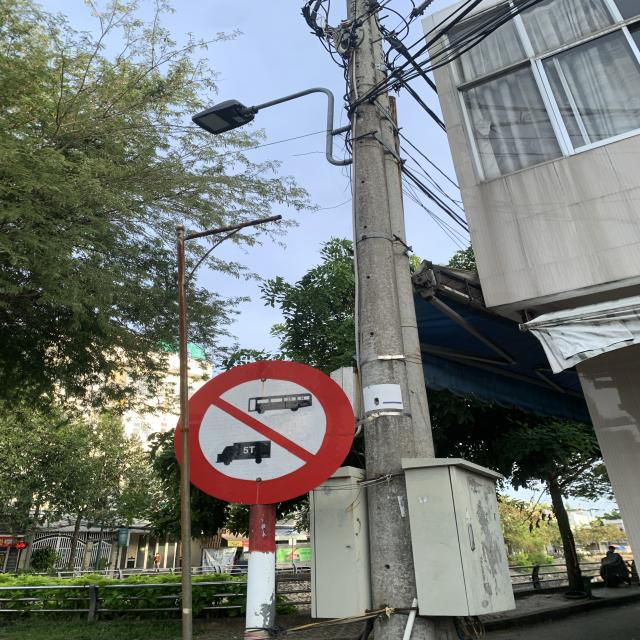Cam_XeTai_XeKhach: (178, 359, 360, 504)
